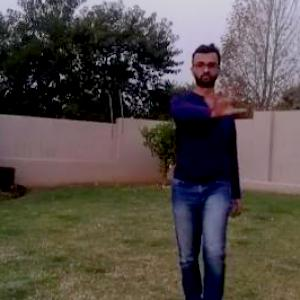follow_hand: (206, 80, 247, 118)
